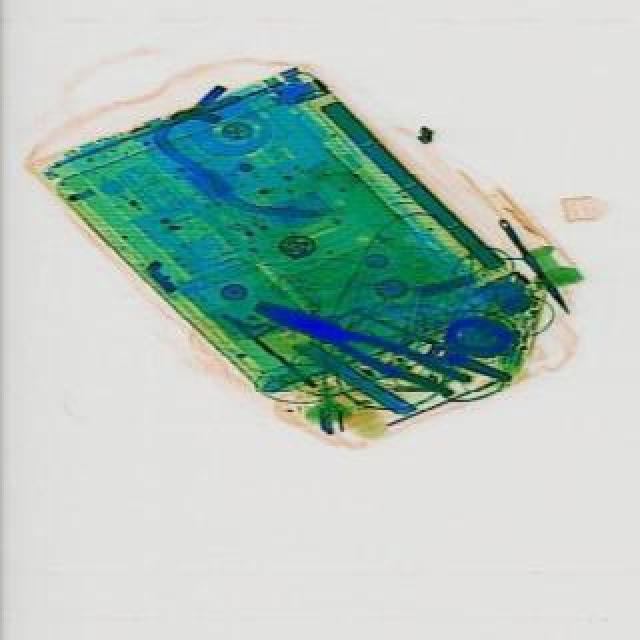wrench: (246, 292, 470, 408)
